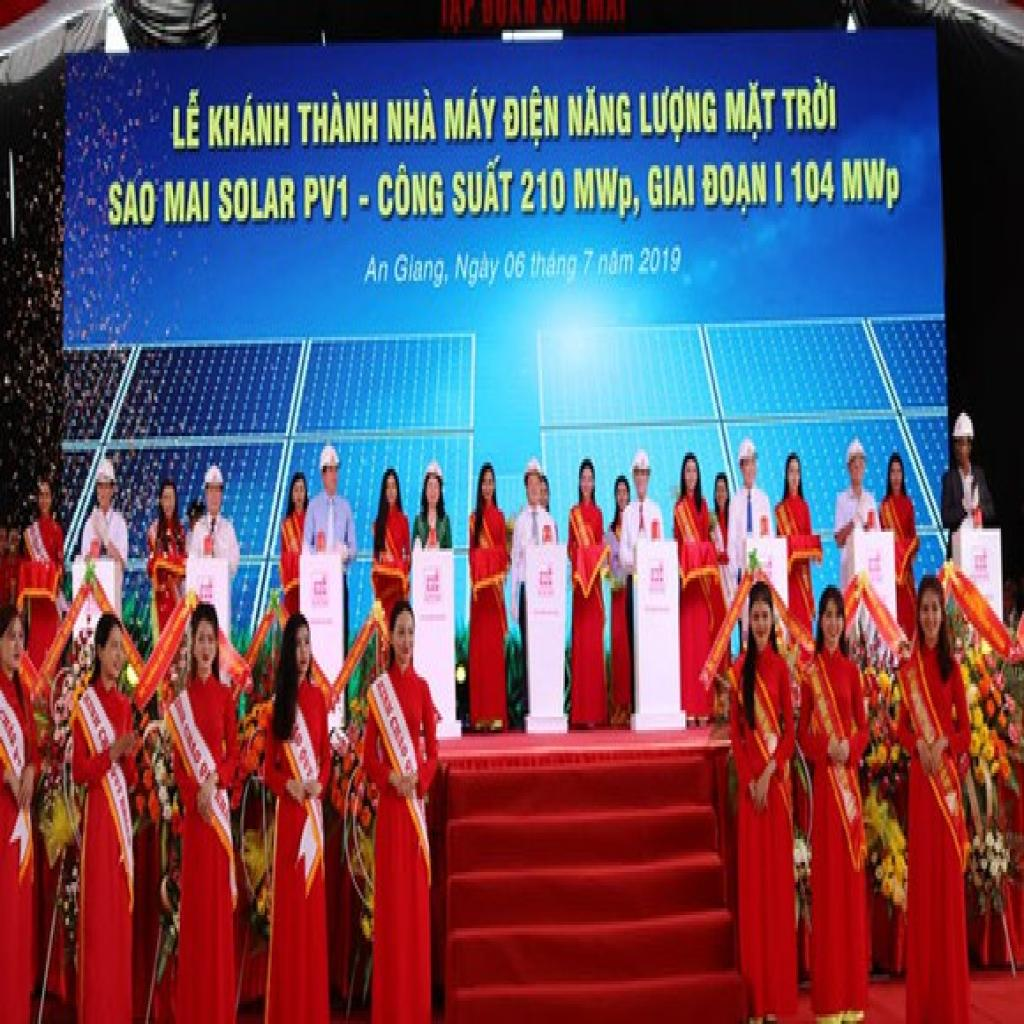text: (208, 89, 293, 152), (638, 86, 720, 149), (296, 89, 380, 149), (218, 175, 298, 228), (574, 165, 642, 225), (452, 155, 516, 218), (567, 83, 634, 142), (378, 162, 445, 221), (503, 86, 562, 152), (701, 162, 770, 218), (840, 155, 902, 215), (724, 80, 778, 146), (443, 86, 500, 145), (782, 76, 839, 135), (386, 86, 440, 145), (106, 178, 157, 232), (302, 175, 351, 225), (164, 178, 212, 228), (646, 166, 698, 212), (789, 159, 837, 208), (392, 254, 450, 294), (521, 168, 567, 218), (454, 251, 503, 294), (173, 86, 203, 155), (528, 248, 581, 287), (638, 244, 684, 278), (598, 248, 638, 277), (362, 254, 392, 288), (503, 248, 528, 284), (773, 162, 786, 208), (581, 248, 597, 281)
